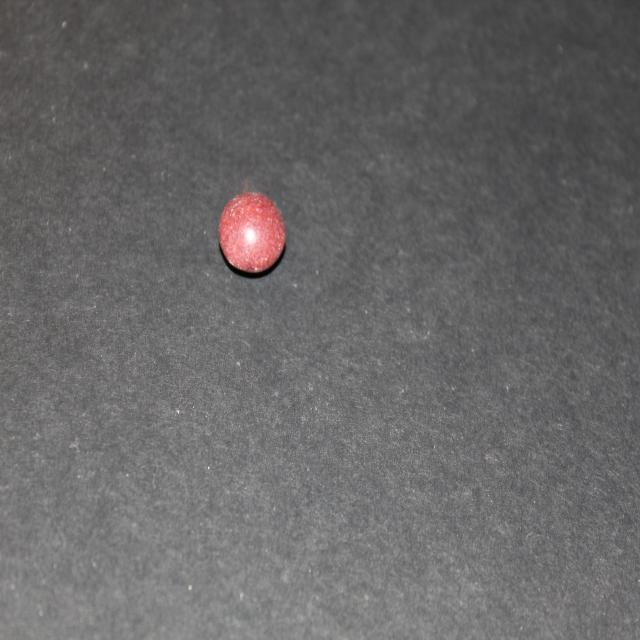smartie: (217, 192, 288, 279)
